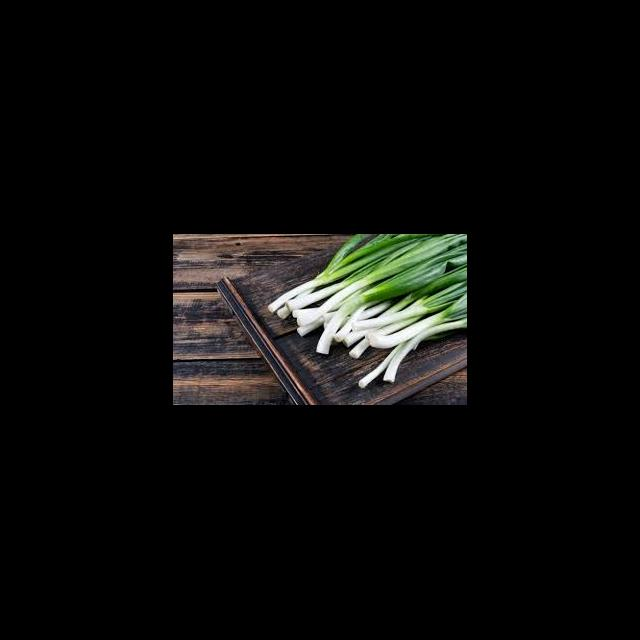green_onion: (269, 235, 467, 345)
